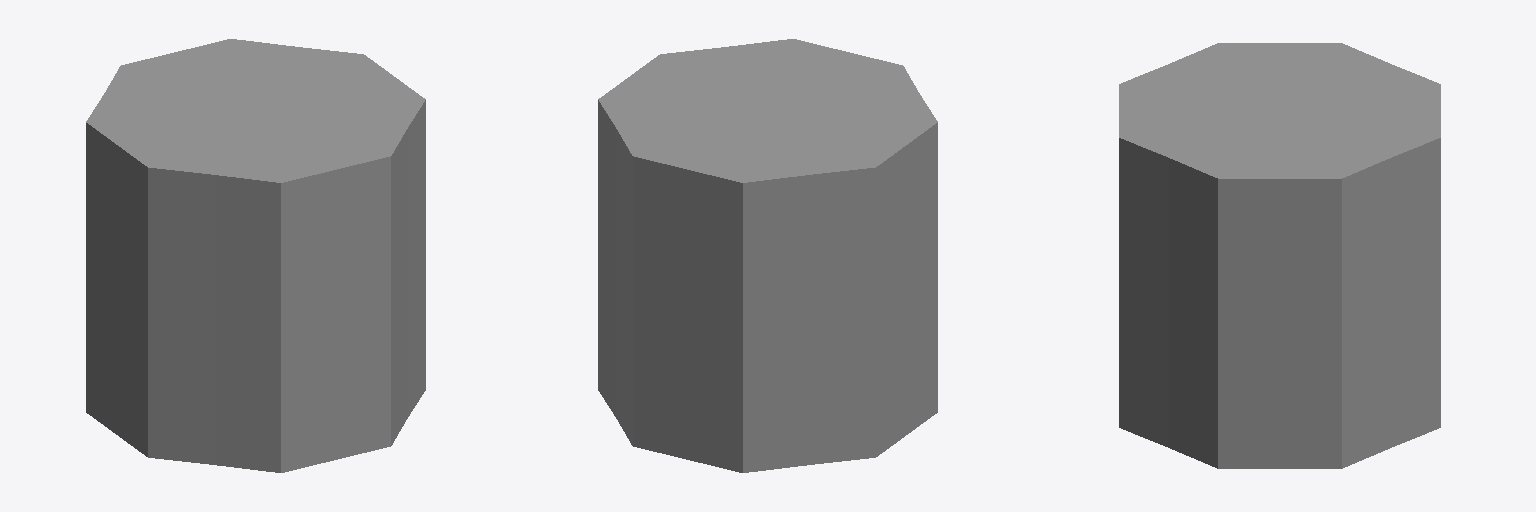
File: log.obj
The picture shows the model from 3 angles: view 1: azimuth 30°, elevation 25°; view 2: azimuth 150°, elevation 25°; view 3: azimuth 270°, elevation 25°; orthographic projection.
Parts seen in each view (by area): view 1: log; view 2: log; view 3: log.
Boxes of the visible parts, <box> form: log: <box>86,39,425,472</box>; log: <box>598,39,937,472</box>; log: <box>1119,43,1440,468</box>.
Bounding box in the file's own units: 1 × 1 × 1.